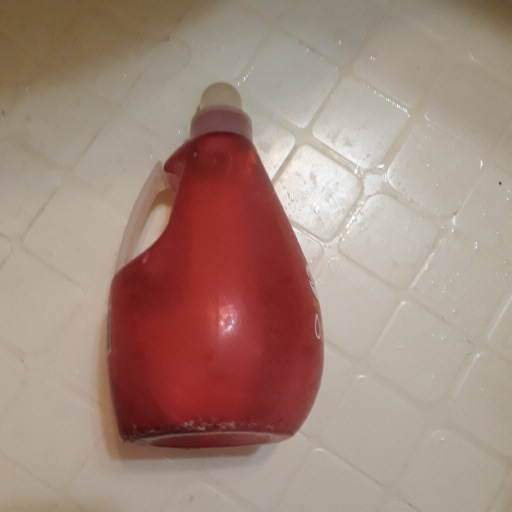Plastic_1: (104, 81, 325, 452)
